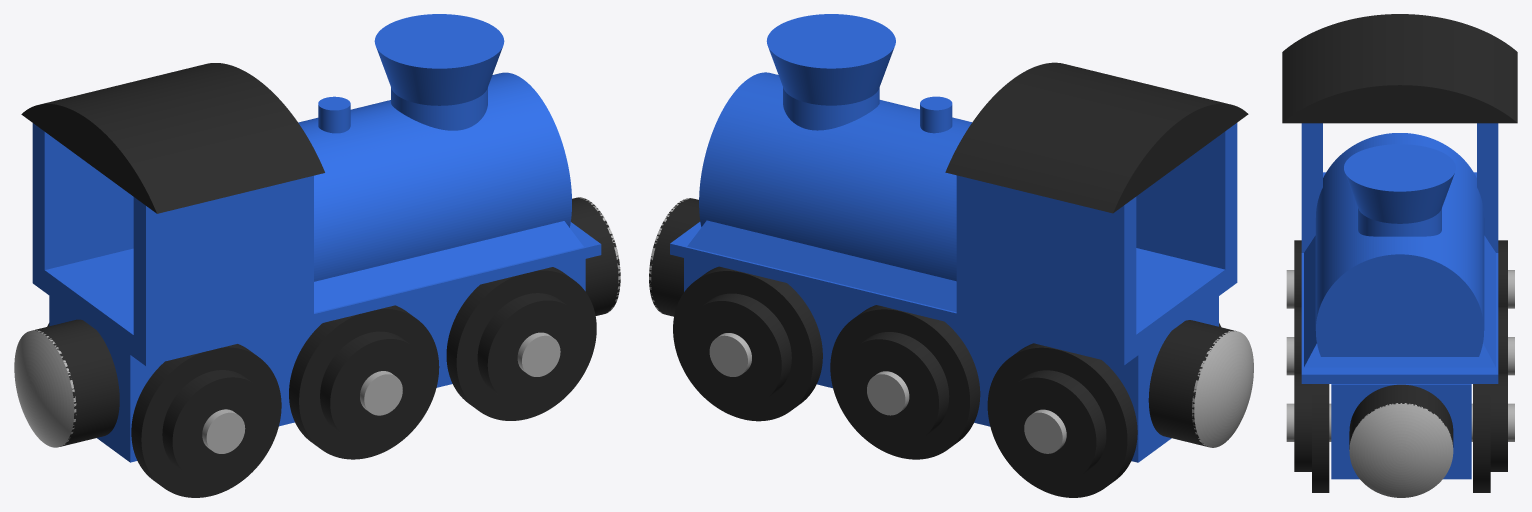
File: train.fbx
3 views of the same model, side by side, from view 1: azimuth 30°, elevation 25°; view 2: azimuth 150°, elevation 25°; view 3: azimuth 270°, elevation 25° (orthographic). The views are drawn at different scales.
Visible parts, largest first — view 1: train_v2; view 2: train_v2; view 3: train_v2.
Boxes of the visible parts, <box> form: train_v2: <box>14,14,620,497</box>; train_v2: <box>649,14,1253,497</box>; train_v2: <box>1282,14,1517,497</box>.
Bounding box in the file's own units: 3359 × 4857 × 8196.
